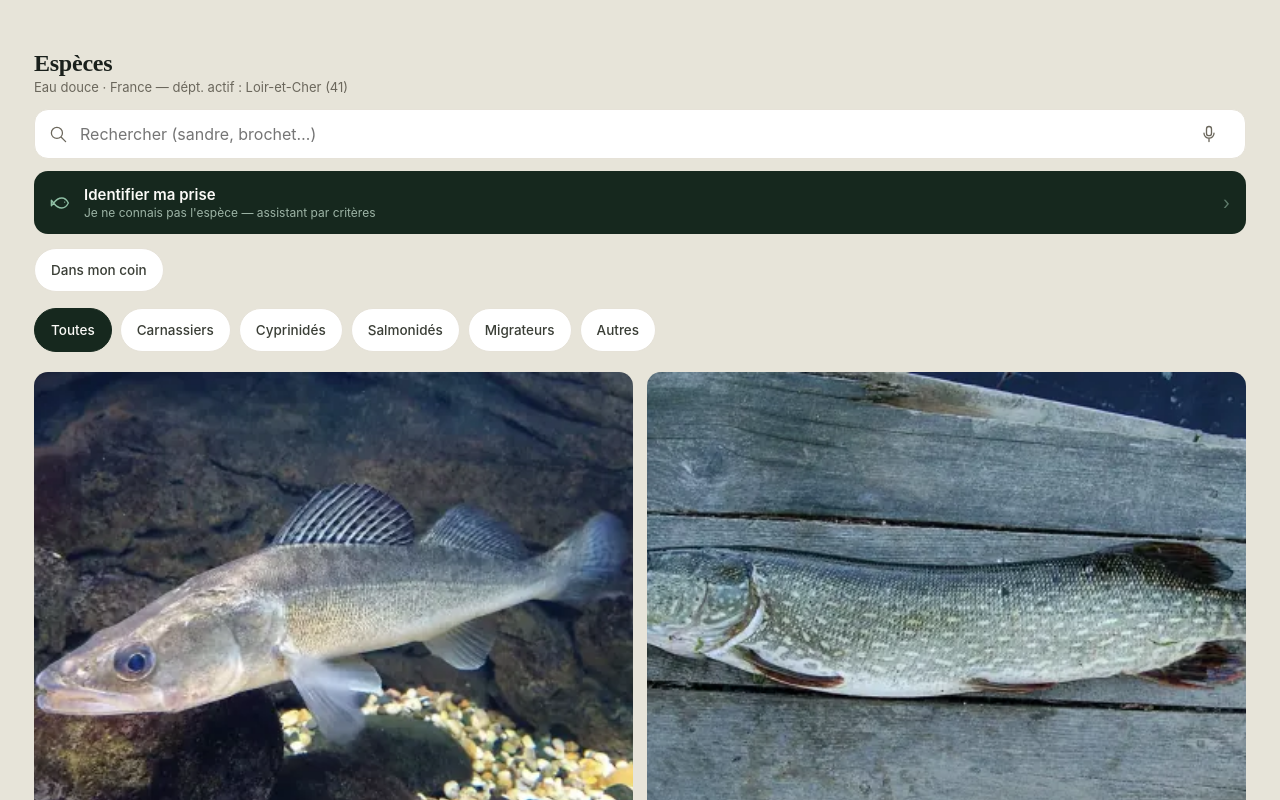
Scenario: Especes — filtre du coin › cite ses stations et la date du relevé
Click the button "Dans mon coin": (99, 270) x1=34 y1=248 x2=164 y2=292
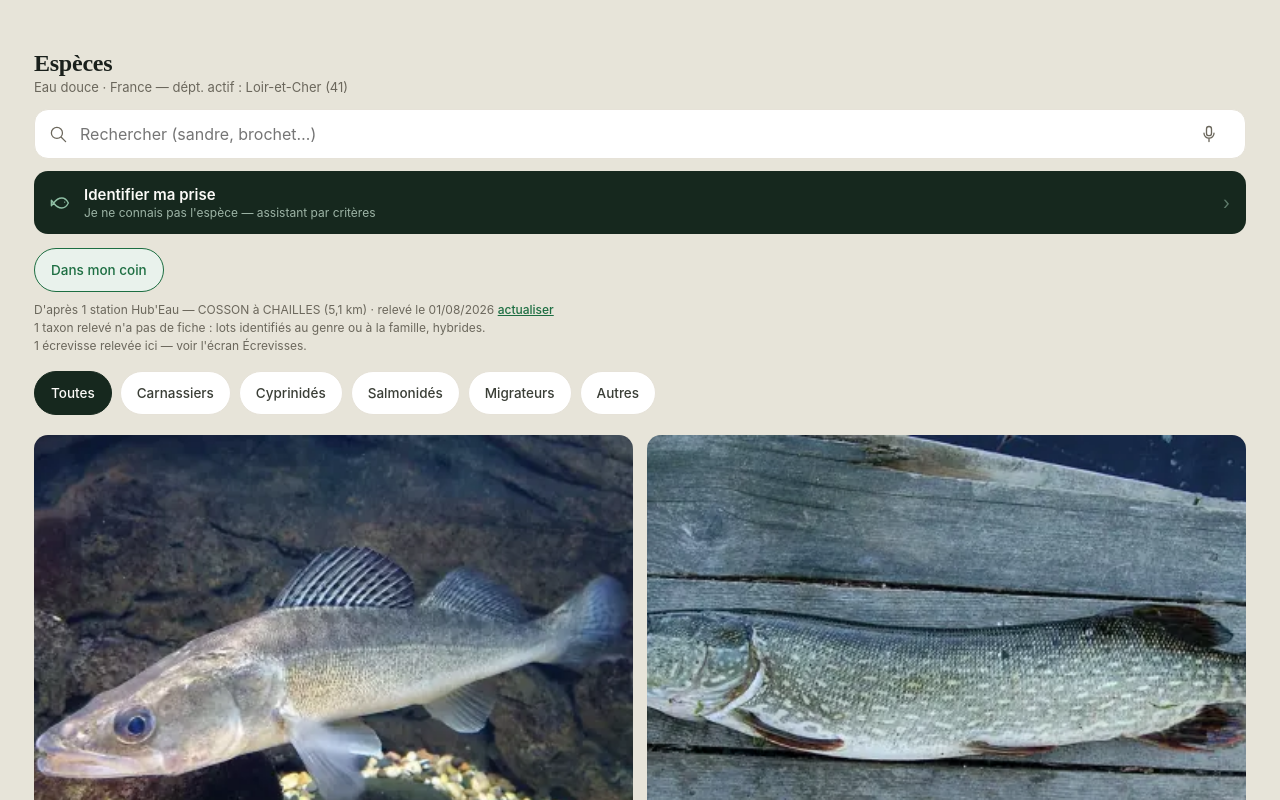
Now the text "5,1 km" is shown, box x1=198 y1=302 x2=367 y2=317
Now the text "01/08/2026" is shown, box x1=429 y1=302 x2=494 y2=317
